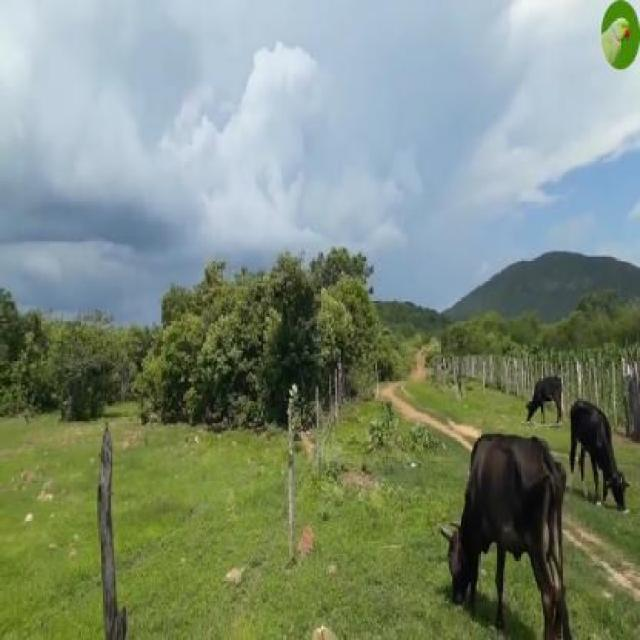Cow: (446, 432, 568, 638)
